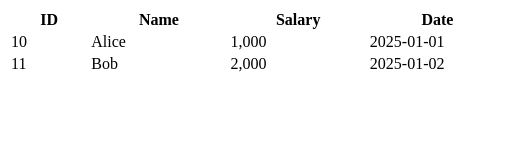
Test: DataGrid editing › never emits for Escape or unchanged numeric/date values
Later steps or results of the test are not shown.
Step 1. Press the mouse on the cell "Alice" → (109, 42), box x1=90 y1=32 x2=228 y2=52
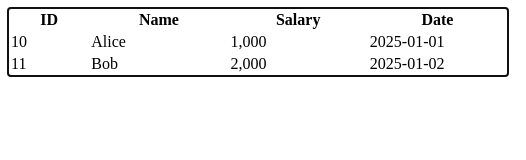
Step 2. Press Enter in the table, box x1=8 y1=8 x2=508 y2=76
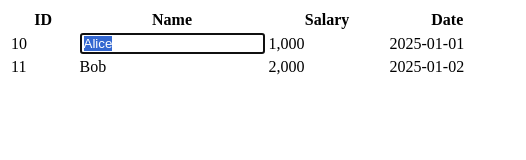
Step 3. Replace the text in the field named "Edit Name" with "Ignored" → (172, 44), box x1=80 y1=33 x2=264 y2=54
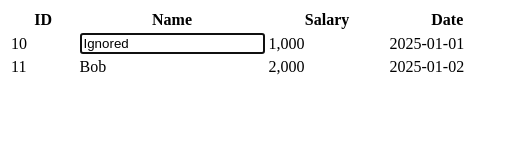
Step 4. Press Escape in the field named "Edit Name", box x1=80 y1=33 x2=264 y2=54
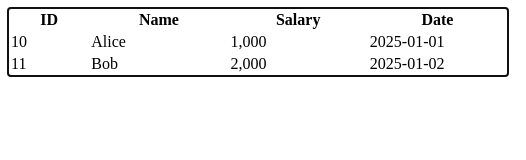
Result: the cell "Alice" is shown at x1=90 y1=32 x2=228 y2=52
